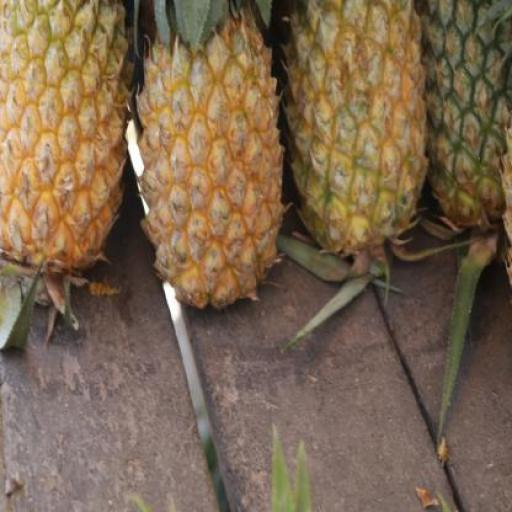------------------------------: (285, 0, 424, 249)
Pineapple - v8 v1: (137, 13, 286, 314), (2, 0, 132, 278)
